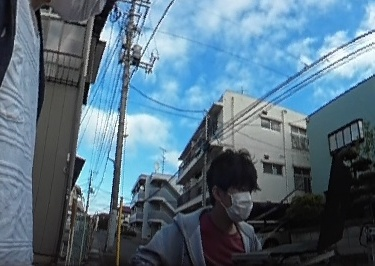person: (150, 152, 263, 266)
